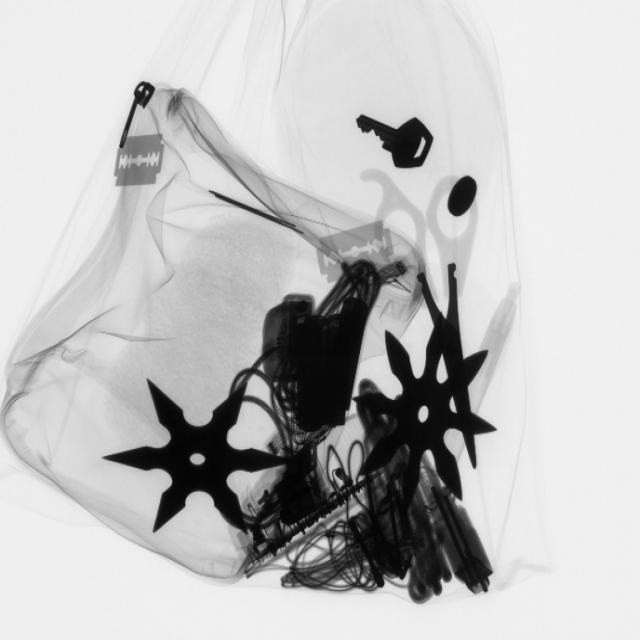BLADE: (314, 216, 396, 280), (108, 124, 170, 195)
SHURIKEN: (356, 310, 498, 511), (115, 374, 285, 540)
